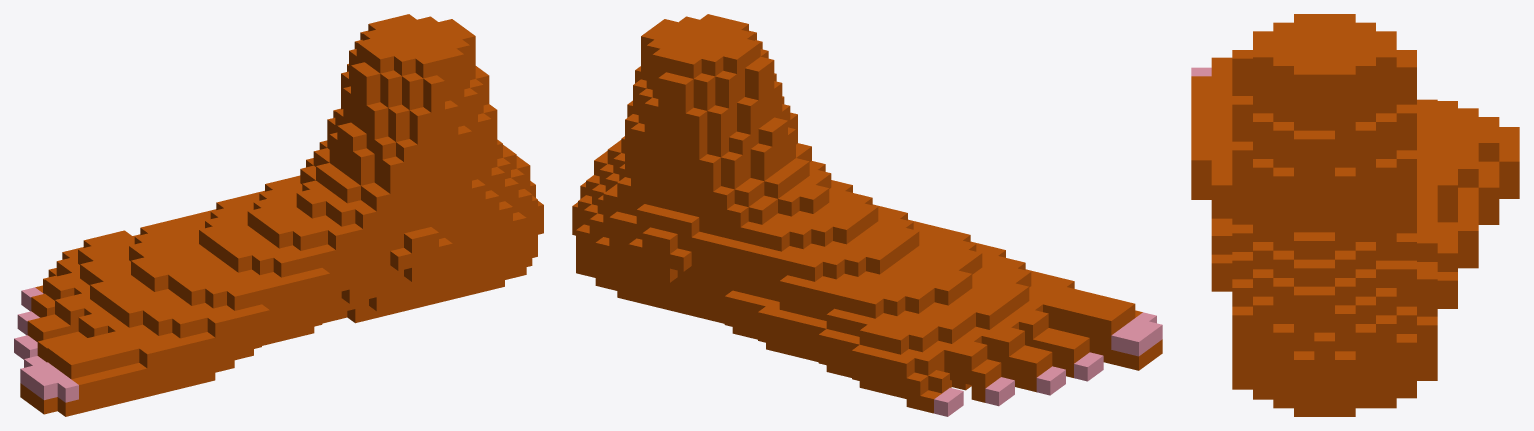
File: Brown.fbx
3 views of the same model, side by side, from view 1: azimuth 30°, elevation 25°; view 2: azimuth 150°, elevation 25°; view 3: azimuth 270°, elevation 25° (orthographic). The views are drawn at different scales.
Visible parts, largest first — view 1: Untitled; view 2: Untitled; view 3: Untitled.
Boxes of the visible parts, left/top/right/bottom form: Untitled: left=14, top=14, right=543, bottom=416; Untitled: left=572, top=14, right=1162, bottom=416; Untitled: left=1191, top=14, right=1519, bottom=416.
Size of the model in its own units: 390 by 170 by 160.
